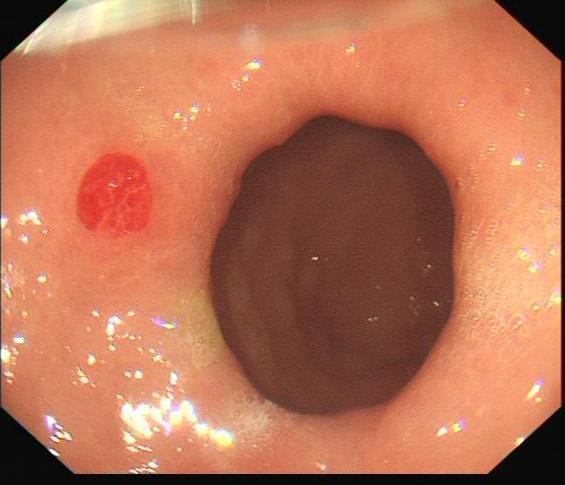Polyp: (76, 150, 155, 240)
